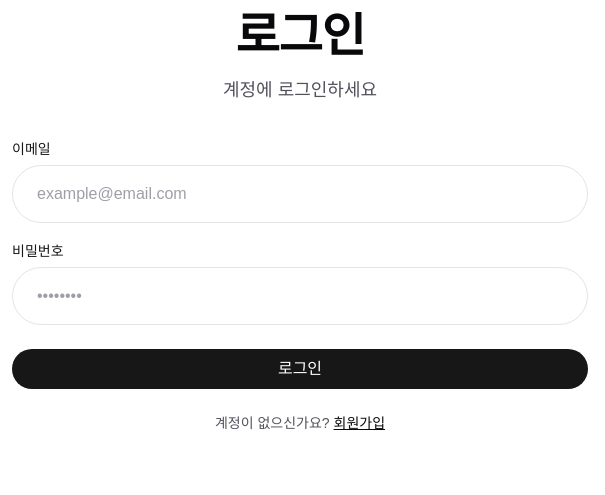
Test: LoginForm › Password Validation › should show error for empty password
The width and height of the screenshot is (605, 495).
Note: Focus and blur password input without entering value
Click the password field labelled "비밀번호" at {"x": 300, "y": 296}, box [12,267,588,325]
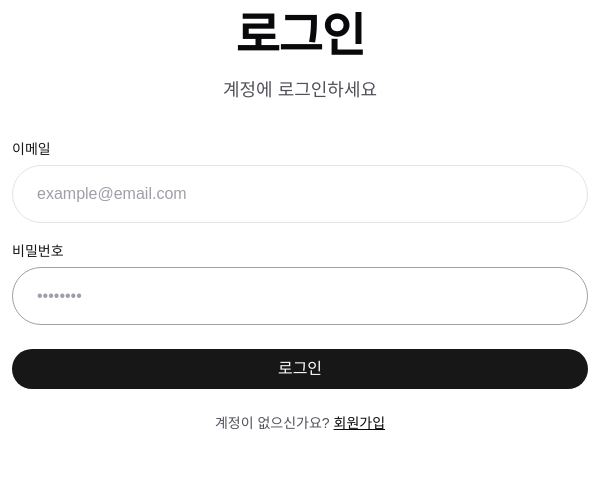
Press Tab
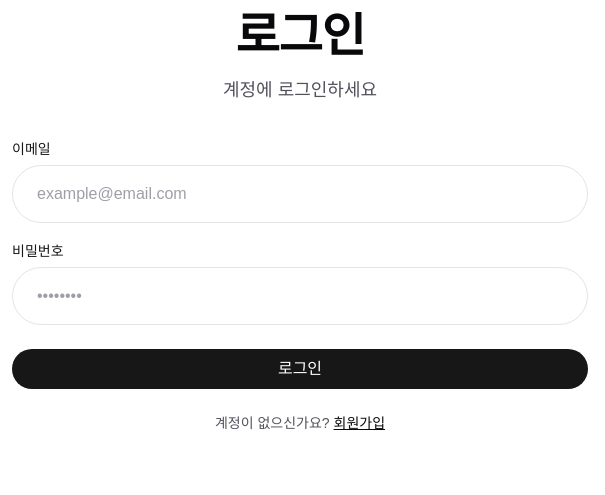
Note: Try to submit
Click the button "로그인" at {"x": 300, "y": 369}, box [12,349,588,389]
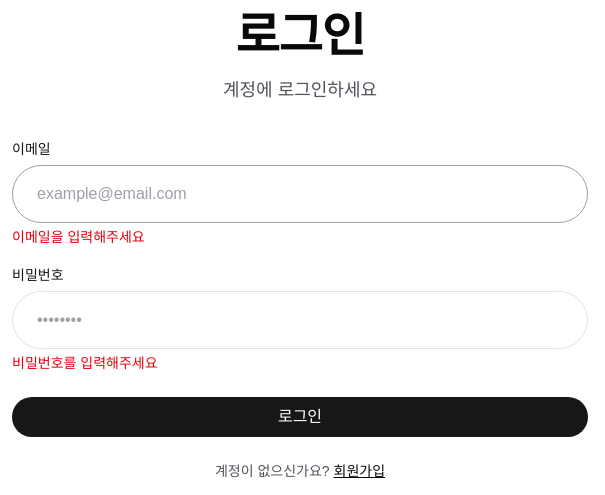
Now the text "비밀번호를 입력해주세요" is shown, box [12,355,158,371]
